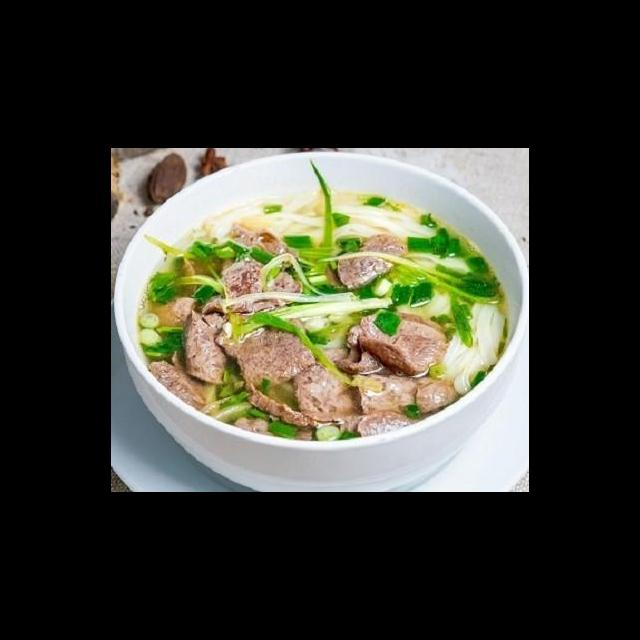banh pho: (206, 191, 438, 248), (390, 247, 484, 327), (442, 293, 505, 396)
pho bo: (127, 171, 529, 477)
thit bo: (321, 308, 450, 380), (343, 369, 456, 438), (217, 315, 317, 390), (224, 377, 319, 448), (204, 257, 306, 314), (293, 359, 366, 428), (178, 309, 237, 387), (330, 232, 409, 290), (144, 352, 208, 409), (227, 223, 296, 266), (148, 294, 195, 328)
